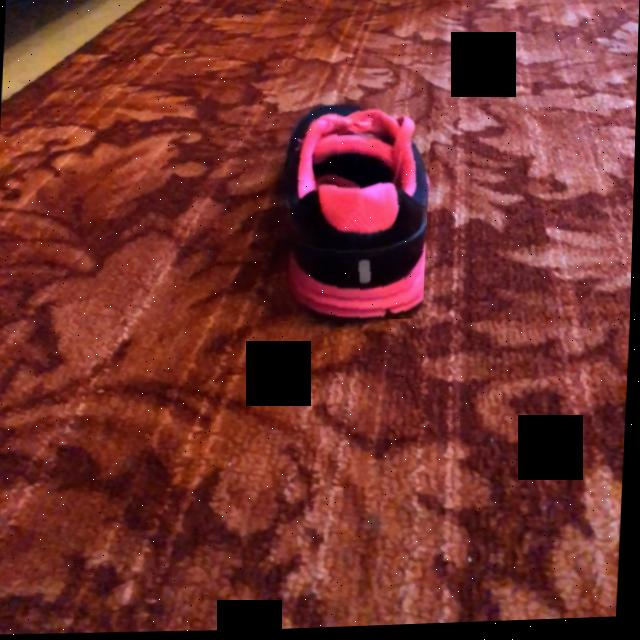shoe: (281, 104, 430, 322)
